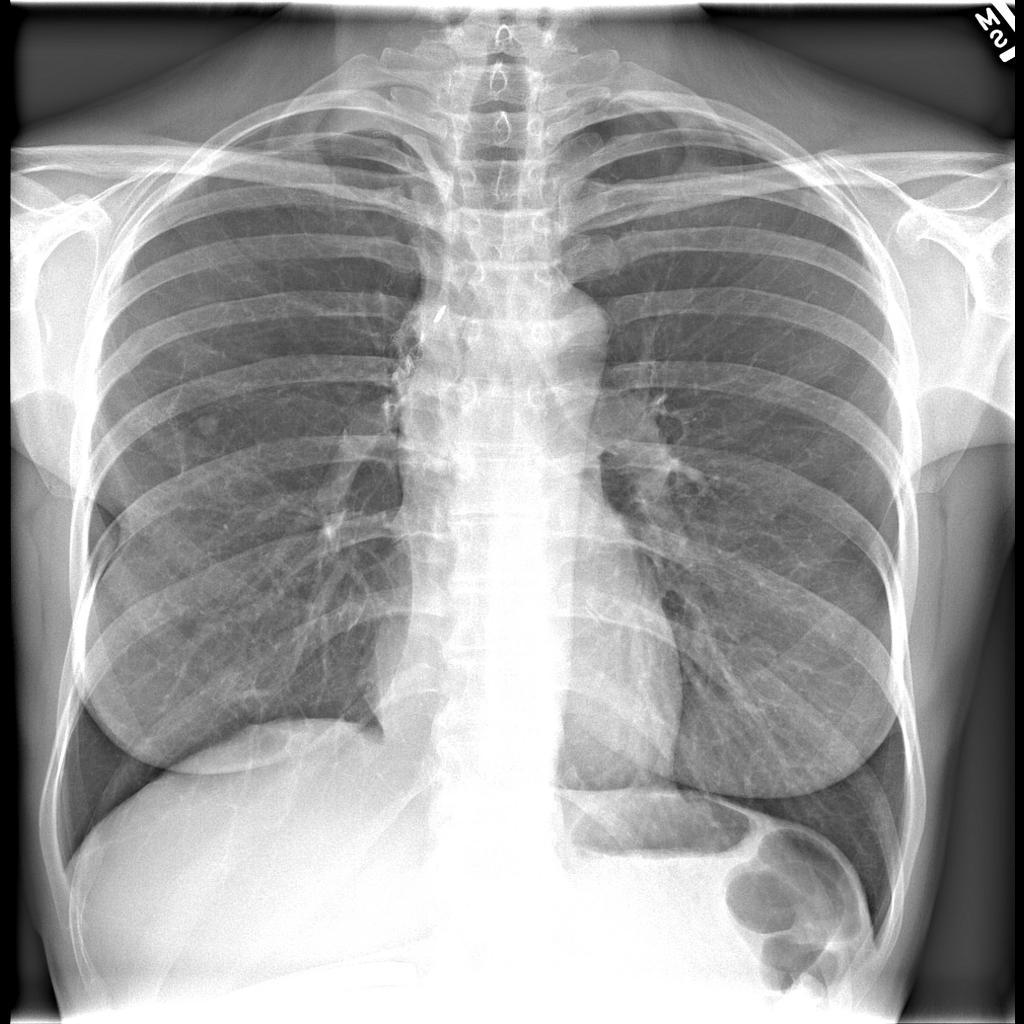Nodule: (194, 412, 224, 446)
